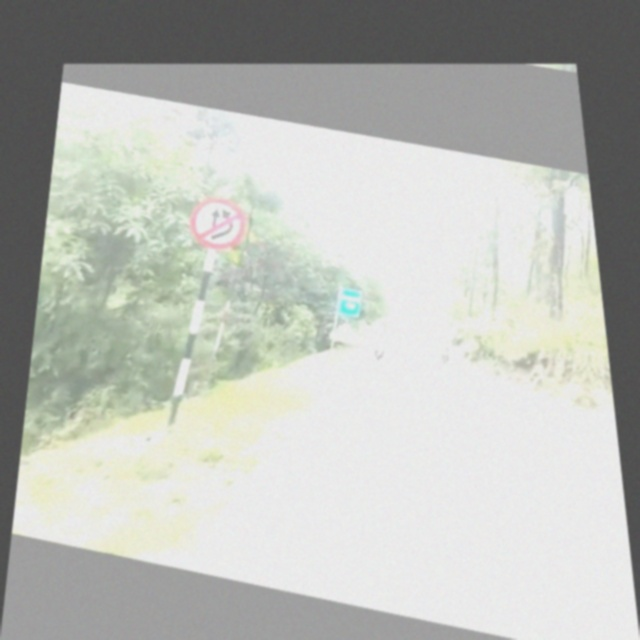Overtaking_Prohibited: (183, 193, 250, 253)
